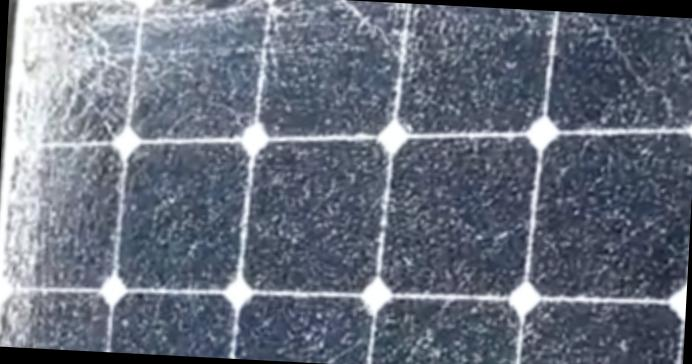Crack: (10, 0, 176, 174)
